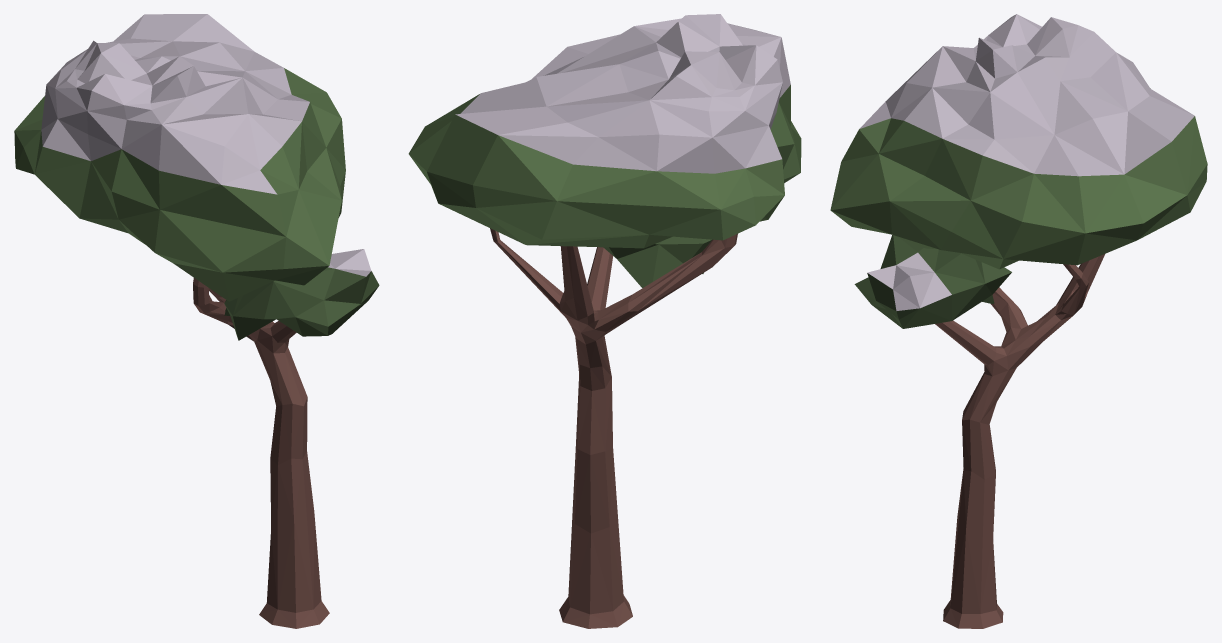
The model's file is CommonTree_Snow_4.lod1.glb.
3 renders of one model, left to right at view 1: azimuth 30°, elevation 25°; view 2: azimuth 150°, elevation 25°; view 3: azimuth 270°, elevation 25°, orthographic. The views are drawn at different scales.
Visible parts, largest first — view 1: CommonTree_Snow_4; view 2: CommonTree_Snow_4; view 3: CommonTree_Snow_4.
Boxes of the visible parts, box(x1,y1,x2,y2) form: CommonTree_Snow_4: box(14, 14, 379, 628); CommonTree_Snow_4: box(408, 14, 801, 628); CommonTree_Snow_4: box(830, 14, 1207, 628).
Bounding box in the file's own units: 1.58 × 2.8 × 1.8.
